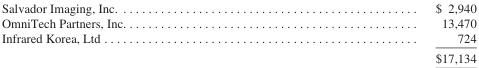table: (0, 0, 475, 65)
table column: (0, 0, 279, 65), (279, 0, 475, 65)
table row: (0, 30, 475, 48), (0, 48, 475, 65), (0, 0, 475, 15), (0, 15, 475, 30)
